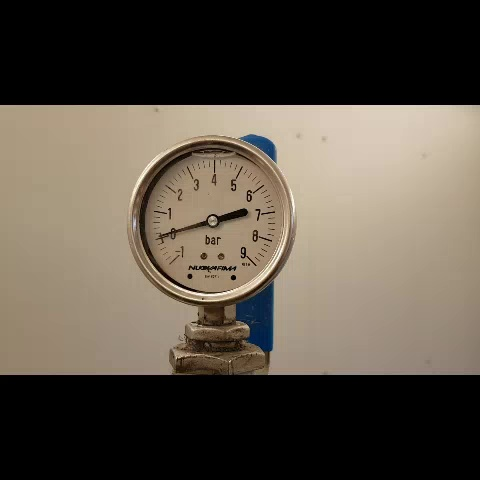Round_Meter: (141, 144, 286, 299)
